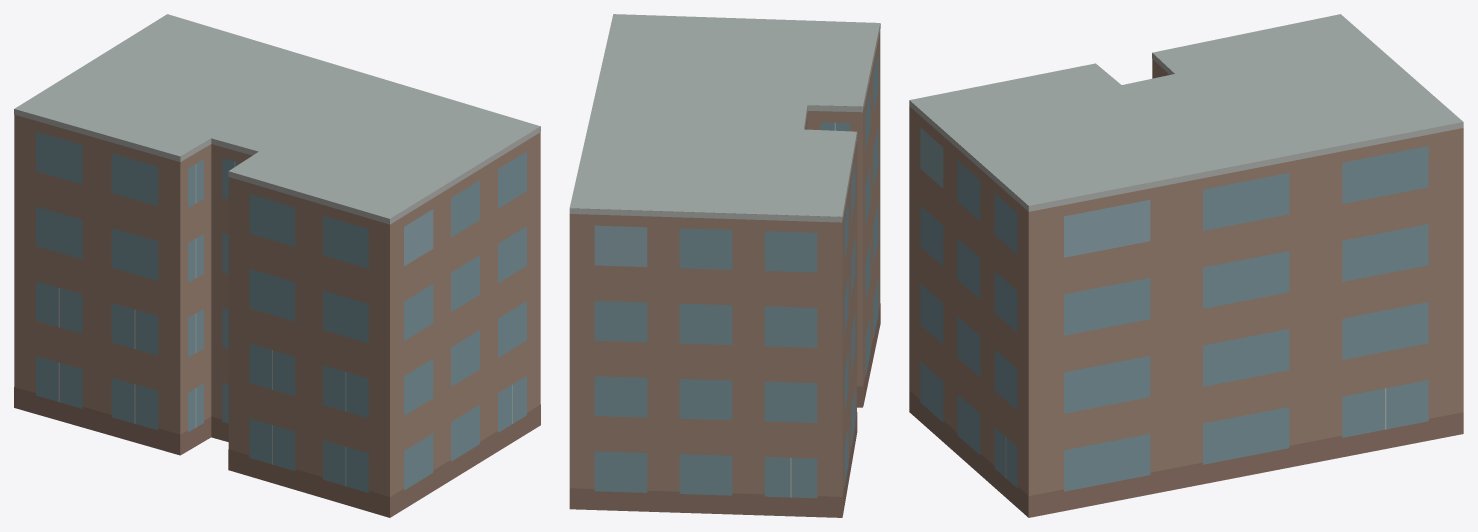
Rendered from survey-upis-32701409.glb.
3 views of the same model, side by side, from view 1: azimuth 30°, elevation 25°; view 2: azimuth 150°, elevation 25°; view 3: azimuth 270°, elevation 25° (orthographic). The views are drawn at different scales.
Visible parts, largest first — view 1: survey-upis-32701409.tmp; view 2: survey-upis-32701409.tmp; view 3: survey-upis-32701409.tmp.
Boxes of the visible parts, bbox=[...] form: survey-upis-32701409.tmp: bbox=[14, 14, 540, 517]; survey-upis-32701409.tmp: bbox=[569, 14, 880, 517]; survey-upis-32701409.tmp: bbox=[909, 14, 1463, 517].
Size of the model in its own units: 16.97 by 12.85 by 20.71.
